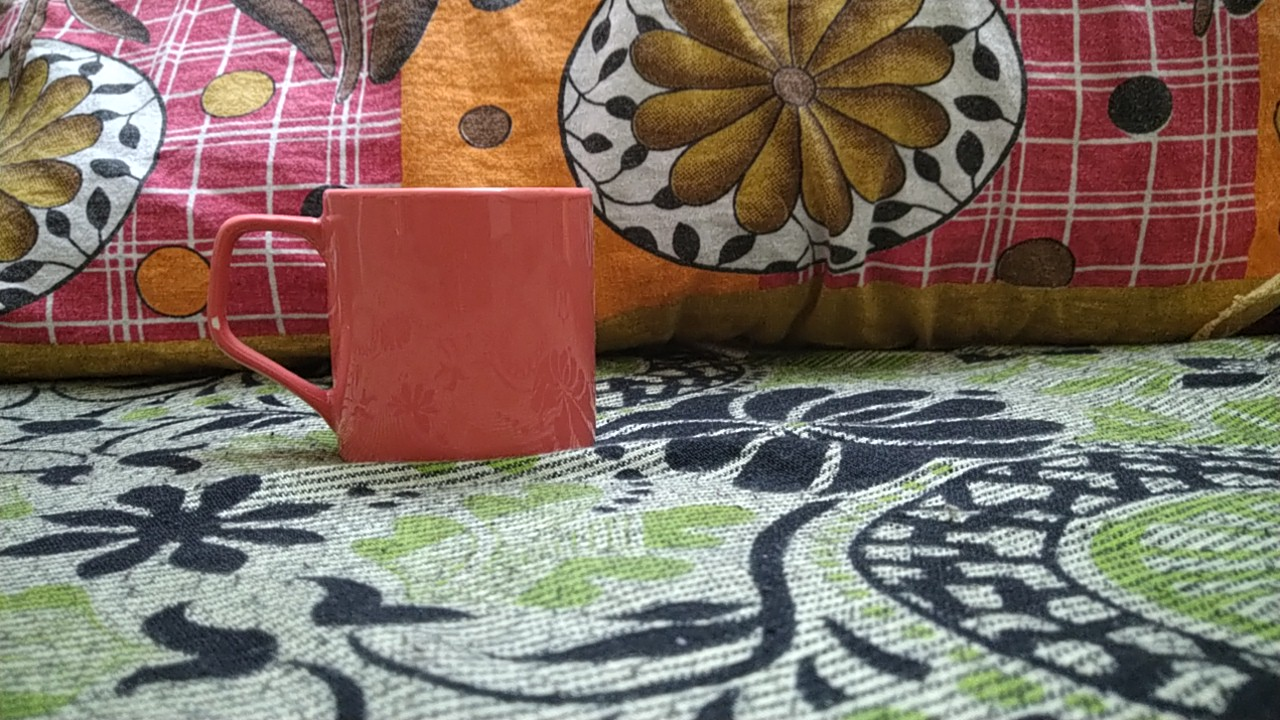cup: (200, 181, 620, 469)
